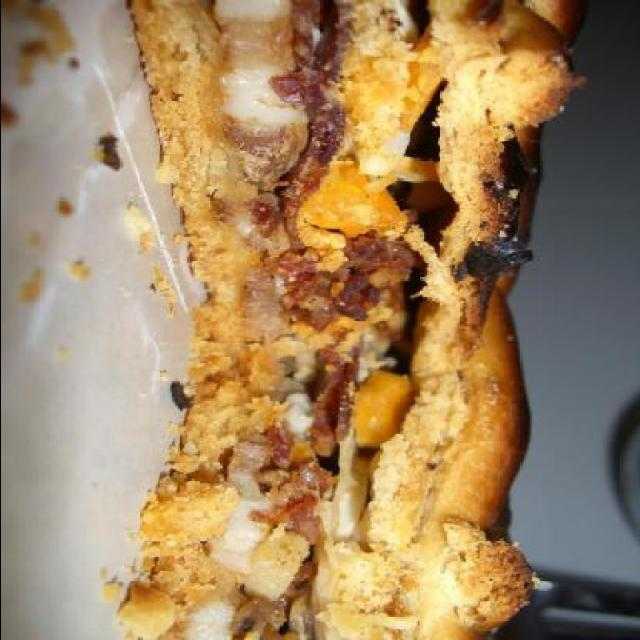Sandwich: (106, 0, 590, 640)
